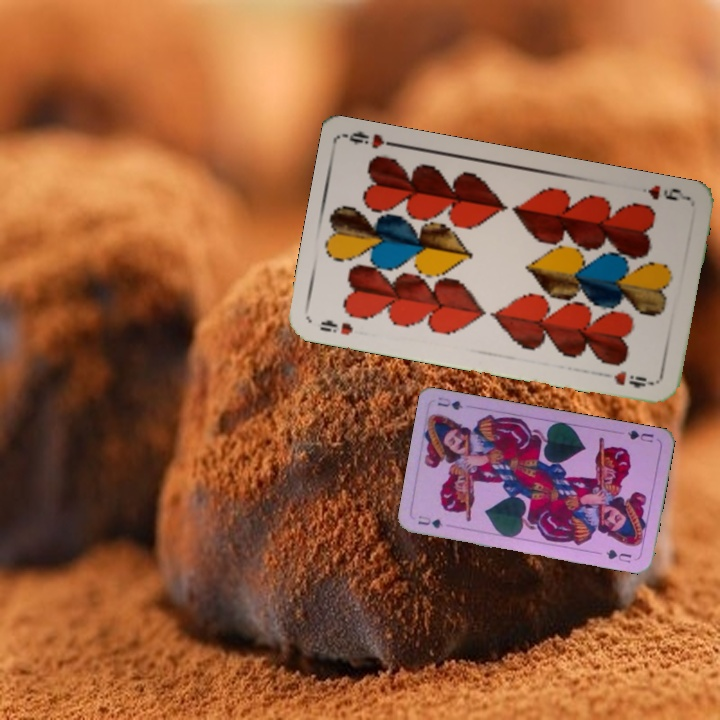GU: (623, 426, 656, 445), (414, 511, 445, 531)
H9: (644, 181, 689, 203), (315, 315, 356, 338)
